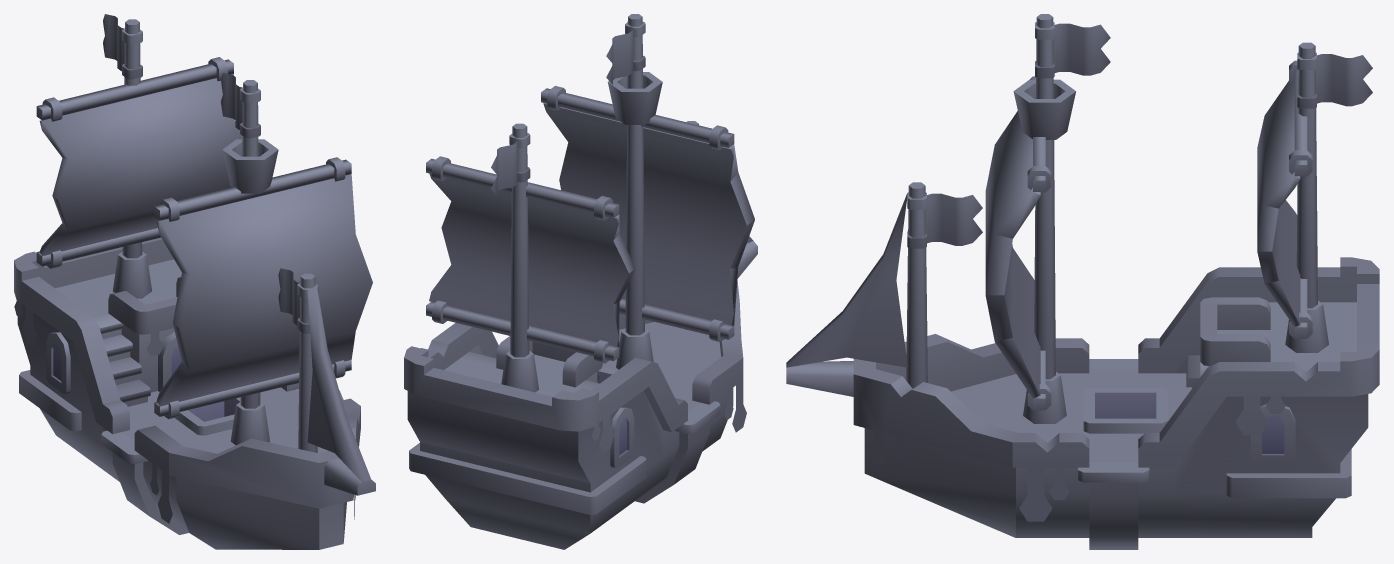
The model's file is ship-ghost.fbx.
The picture shows the model from 3 angles, left to right: view 1: azimuth 30°, elevation 25°; view 2: azimuth 150°, elevation 25°; view 3: azimuth 270°, elevation 25°; orthographic projection. The views are drawn at different scales.
Visible parts, largest first — view 1: ship-ghost, sail-a, sail-b, flag-b, flag-c, flag-a; view 2: ship-ghost, sail-a, sail-b, flag-c, flag-b; view 3: ship-ghost, sail-a, sail-b, flag-b, flag-c, flag-a.
Boxes of the visible parts, x1,y1,x2,y2 form: ship-ghost: (14,19,375,549); sail-a: (154,157,372,419); sail-b: (36,57,242,268); flag-b: (220,73,260,138); flag-c: (103,14,142,79); flag-a: (278,268,318,333); ship-ghost: (404,14,757,549); sail-a: (541,86,754,341); sail-b: (426,156,635,363); flag-c: (491,133,530,196); flag-b: (606,21,645,84); ship-ghost: (786,14,1379,549); sail-a: (985,76,1051,410); sail-b: (1257,60,1312,338); flag-b: (1035,22,1110,78); flag-c: (1297,52,1372,108); flag-a: (907,192,982,248).
Size of the model in its own units: 480 by 996 by 1060.
